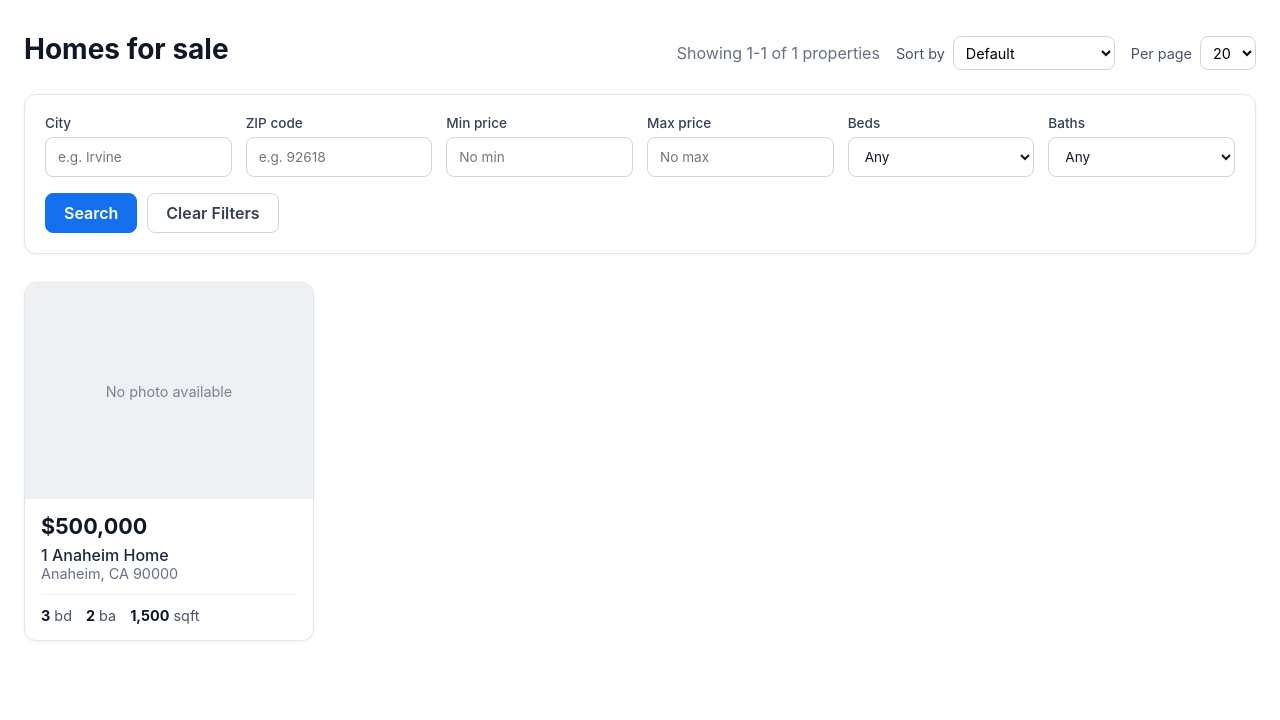
Test case: ListingsPage filters › fetches page 1 of the filtered results when the form is submitted
In the field labelled "City": (138, 157) [45,137,232,177], type "Irvine"
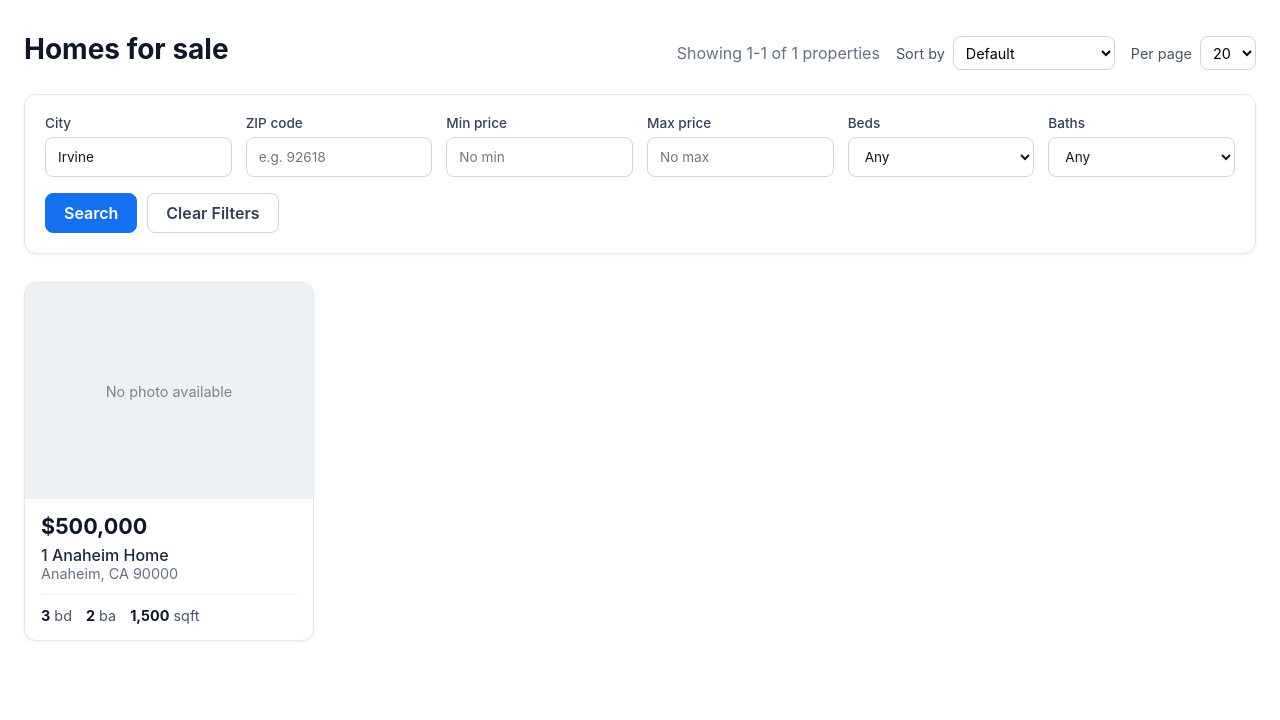
Click the button "Search": (91, 213) [45,193,137,233]
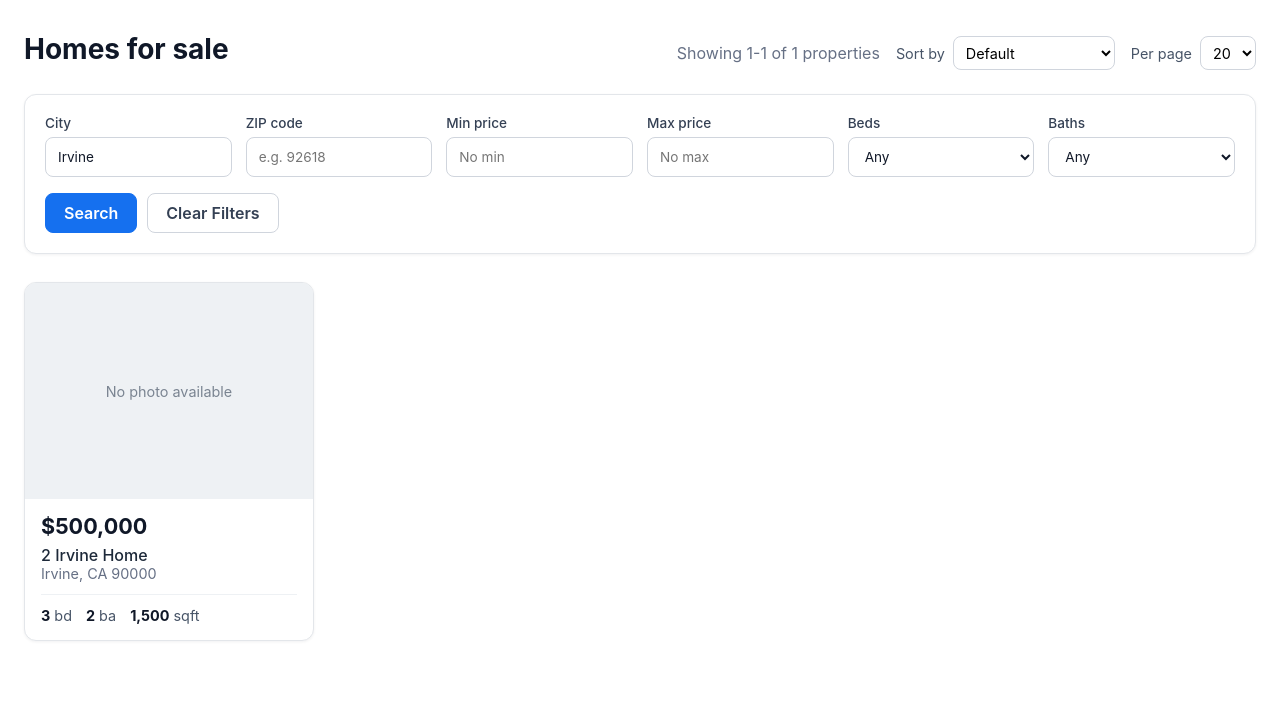
Result: the link "2 Irvine Home" is shown at [41,545,148,565]
Result: the link "1 Anaheim Home" is gone
